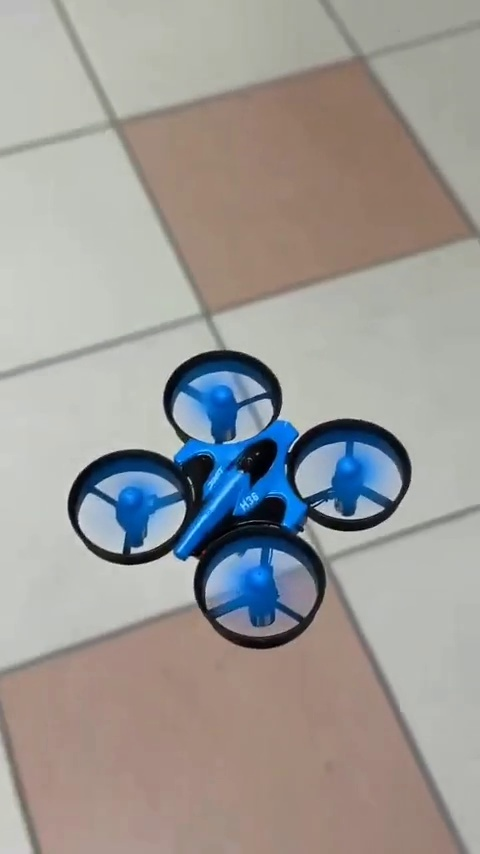drone: (62, 351, 417, 640)
